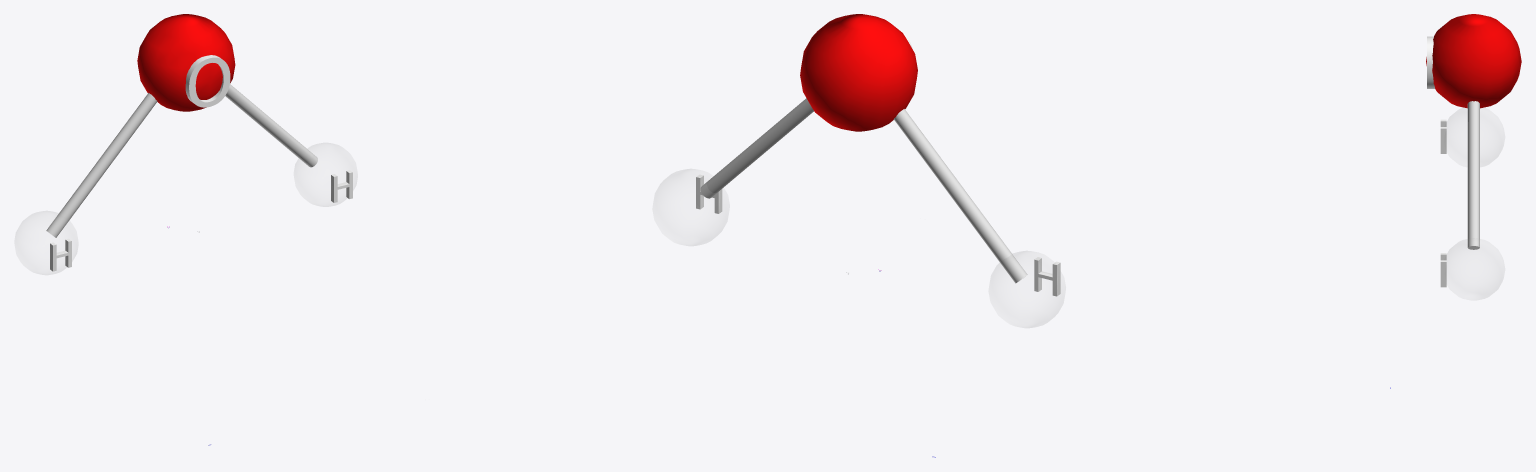
The picture shows the model from 3 angles, left to right: view 1: azimuth 30°, elevation 25°; view 2: azimuth 150°, elevation 25°; view 3: azimuth 270°, elevation 25°; orthographic projection. The views are drawn at different scales.
Parts seen in each view (by area): view 1: pCylinder2; view 2: pCylinder2; view 3: pCylinder2.
Part boxes in pixels (x1,y1,x2,y2): pCylinder2: (15, 14, 357, 274); pCylinder2: (653, 14, 1065, 327); pCylinder2: (1426, 14, 1521, 299).
Size of what is drawn, in the model's own units: 0.1249 by 0.1002 by 0.0798.
